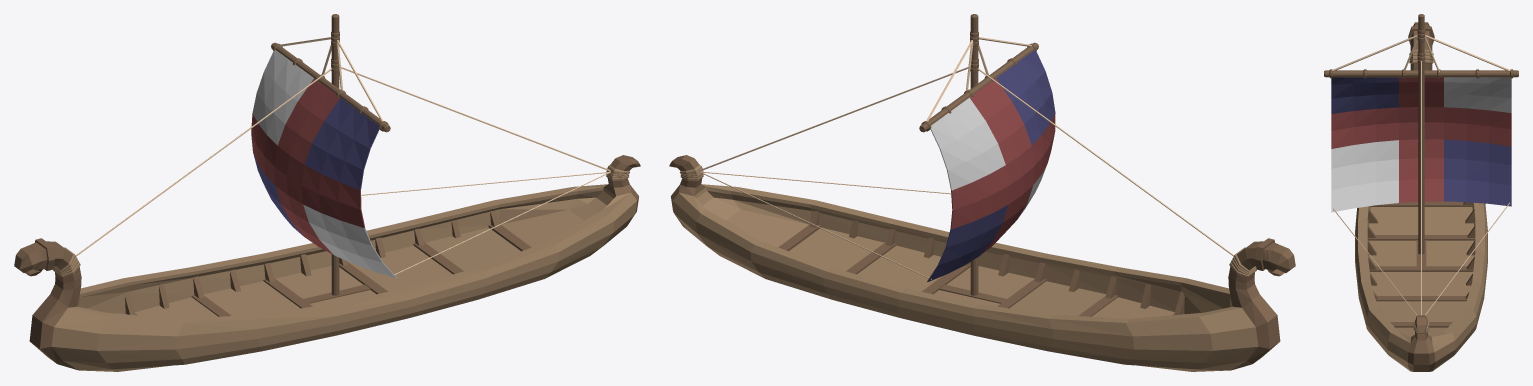
Rendered from drakkar_w_wind.fbx.
The picture shows the model from 3 angles, left to right: view 1: azimuth 30°, elevation 25°; view 2: azimuth 150°, elevation 25°; view 3: azimuth 270°, elevation 25°; orthographic projection. The views are drawn at different scales.
Parts seen in each view (by area): view 1: Plane001, parus, Cylinder003, Cylinder002, Cylinder009, Cylinder008; view 2: Plane001, parus, Cylinder003, Cylinder002, Cylinder009, Cylinder008; view 3: parus, Plane001, Cylinder003, Cylinder002, Box004, Box007, Box005, Box008, Box006, Cylinder008, Cylinder005, Cylinder004 (+3 smaller).
Part boxes in pixels (x1,y1,x2,y2): Plane001: (14, 155, 640, 371); parus: (251, 50, 397, 278); Cylinder003: (271, 42, 390, 132); Cylinder002: (331, 14, 339, 295); Cylinder009: (76, 68, 331, 256); Cylinder008: (341, 66, 610, 171); Plane001: (669, 155, 1295, 371); parus: (927, 50, 1055, 281); Cylinder003: (919, 42, 1038, 132); Cylinder002: (970, 14, 978, 295); Cylinder009: (978, 68, 1233, 256); Cylinder008: (699, 67, 968, 171); parus: (1331, 77, 1511, 212); Plane001: (1355, 22, 1487, 371); Cylinder003: (1324, 69, 1518, 78); Cylinder002: (1417, 14, 1425, 254); Box004: (1369, 266, 1473, 271); Box007: (1367, 235, 1475, 240); Box005: (1375, 296, 1467, 301); Box008: (1370, 201, 1472, 206); Box006: (1390, 322, 1452, 327); Cylinder008: (1421, 60, 1421, 315); Cylinder005: (1425, 35, 1510, 71); Cylinder004: (1332, 35, 1417, 71).
Size of the model in its own units: 8160 by 3764 by 2590.
